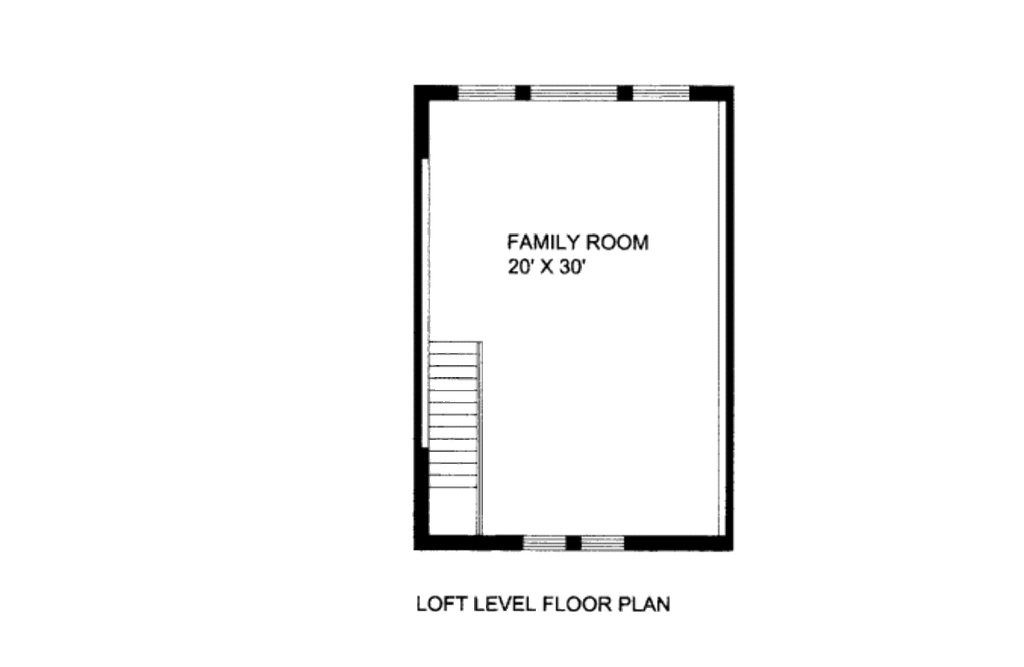stairs: (421, 335, 491, 536)
window: (531, 83, 618, 103), (453, 84, 520, 104), (632, 84, 690, 102), (521, 532, 570, 553), (581, 535, 629, 555)
